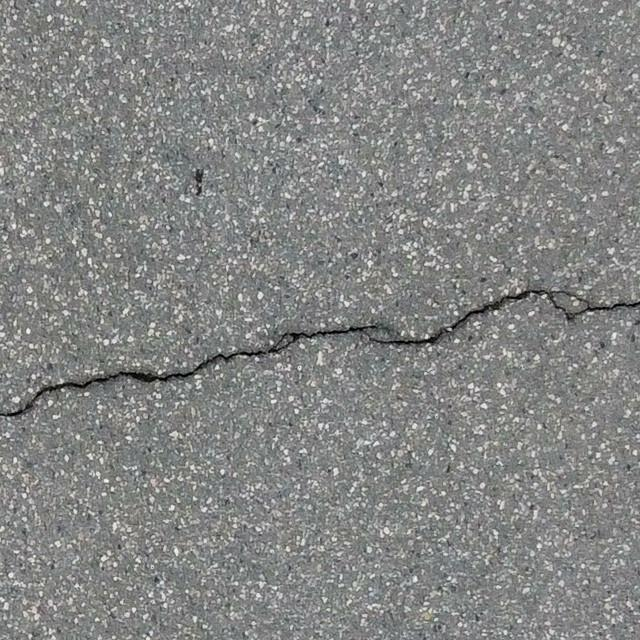TransverseCrack: (1, 288, 640, 419)
